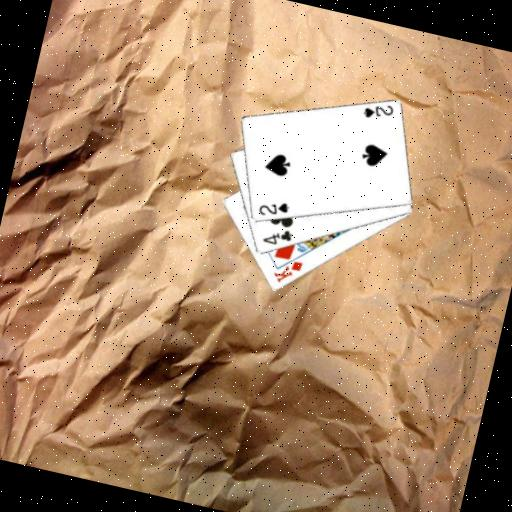2S: (255, 194, 292, 222), (359, 97, 396, 125)
4C: (258, 222, 295, 250)
KD: (269, 254, 306, 289)
